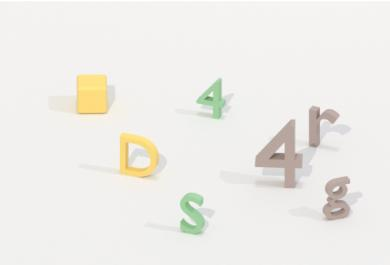0-KhoiVuong: (72, 69, 112, 119)
4: (248, 115, 307, 195), (192, 74, 229, 125)
D: (115, 128, 163, 184)
S: (176, 188, 211, 239)
g: (319, 171, 354, 226)
r: (305, 101, 344, 151)
